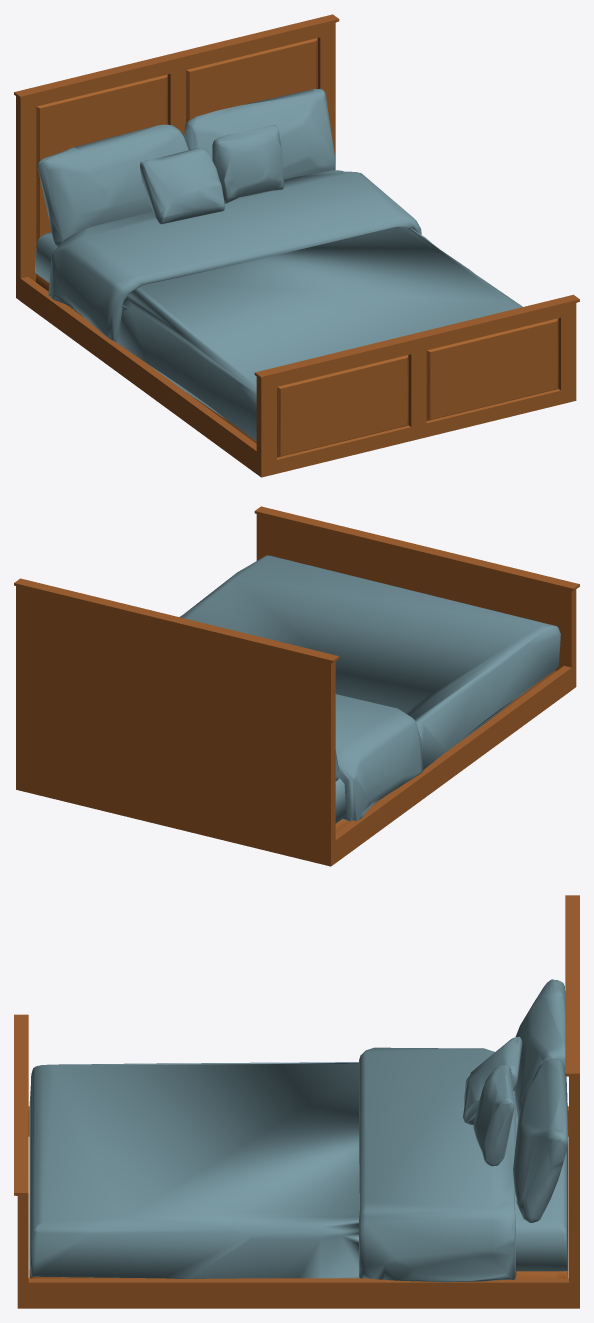
3 views of the same model, one above another, from view 1: azimuth 30°, elevation 25°; view 2: azimuth 150°, elevation 25°; view 3: azimuth 270°, elevation 25° (orthographic). The views are drawn at different scales.
Parts seen in each view (by area): view 1: Box14540; view 2: Box14540; view 3: Box14540.
Boxes of the visible parts, x1=… form: Box14540: x1=14, y1=14, x2=579, y2=477; Box14540: x1=14, y1=506, x2=579, y2=866; Box14540: x1=14, y1=895, x2=579, y2=1308.
Bounding box in the file's own units: 1.44 × 1.93 × 0.8903.
